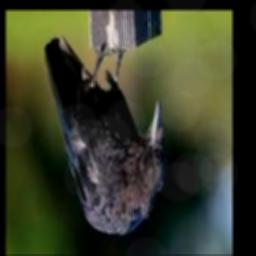Crow: (43, 35, 165, 235)
